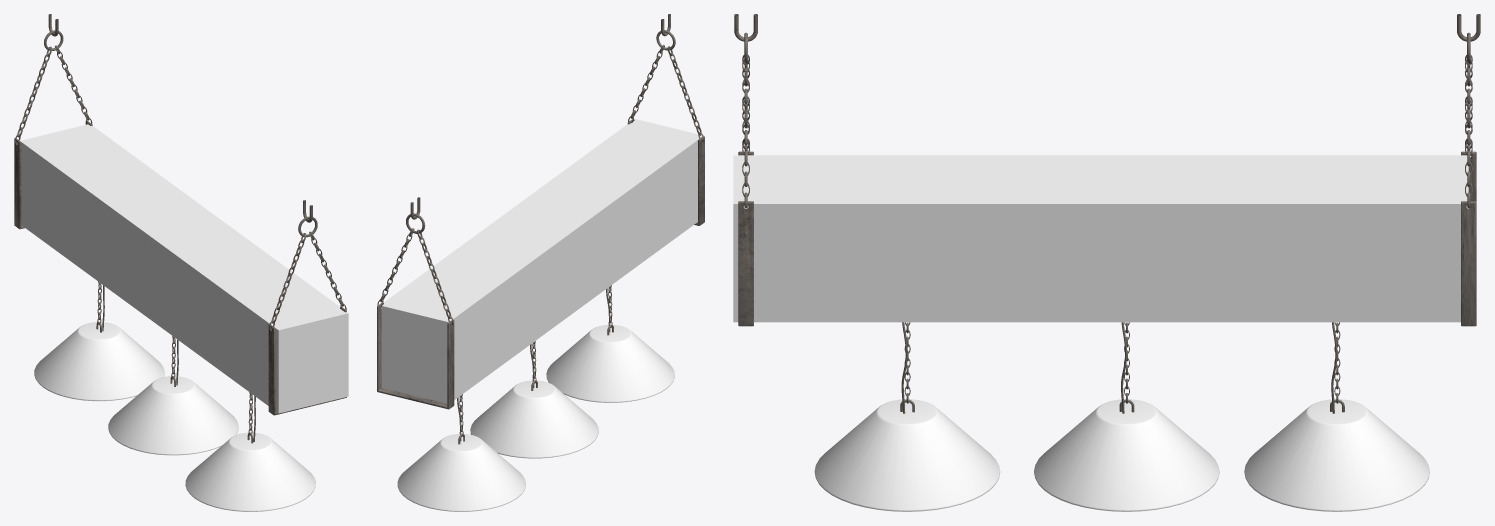
File: KitchenLamps_draco.glb
3 views of the same model, side by side, from view 1: azimuth 30°, elevation 25°; view 2: azimuth 150°, elevation 25°; view 3: azimuth 270°, elevation 25° (orthographic). The views are drawn at different scales.
Visible parts, largest first — view 1: Cube, Lamp shade.001, Lamp shade.002, Lamp shade, Chain.001, Chain.003; view 2: Cube, Lamp shade, Lamp shade.001, Lamp shade.002, Chain.003, Chain.001; view 3: Cube, Lamp shade.001, Lamp shade, Lamp shade.002, Chain.003, Chain.001.
Part boxes in pixels (box(x1,y1,x2,y2)): Cube: box(20, 124, 348, 413); Lamp shade.001: box(185, 392, 315, 511); Lamp shade.002: box(108, 336, 238, 455); Lamp shade: box(34, 281, 164, 401); Chain.001: box(268, 200, 346, 415); Chain.003: box(14, 14, 92, 229); Cube: box(380, 119, 702, 403); Lamp shade: box(397, 394, 525, 511); Lamp shade.001: box(546, 285, 674, 402); Lamp shade.002: box(470, 341, 598, 458); Chain.003: box(377, 197, 454, 409); Chain.001: box(627, 14, 704, 225); Cube: box(733, 155, 1468, 322); Lamp shade.001: box(814, 322, 1000, 511); Lamp shade: box(1244, 322, 1429, 511); Lamp shade.002: box(1034, 322, 1219, 511); Chain.003: box(1457, 14, 1480, 326); Chain.001: box(734, 14, 757, 326).
Bounding box in the file's own units: 2.98 × 8.12 × 12.
Materials: 4 (1 with a texture image).
